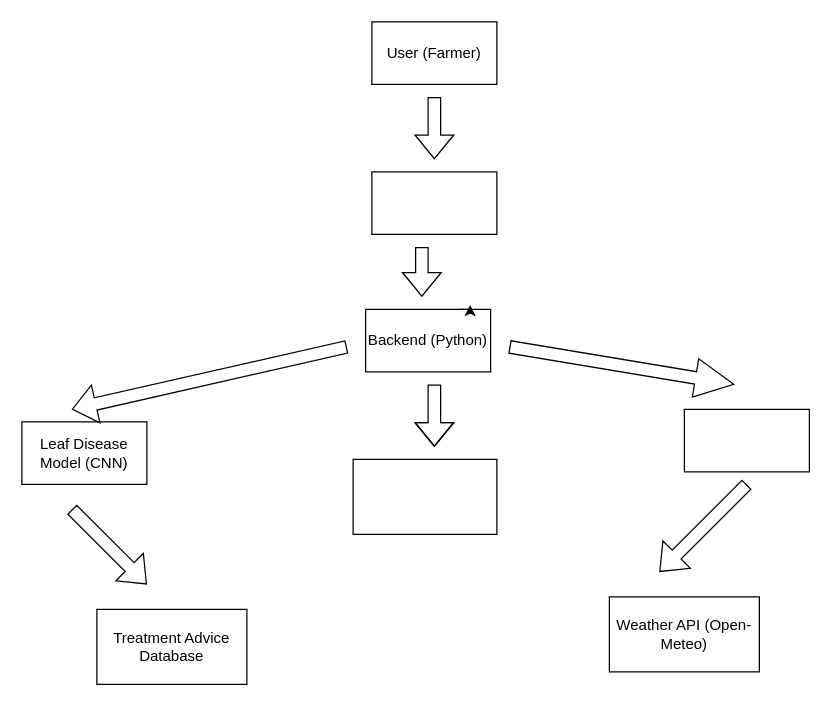
Some shapes in this 831 by 706 pixel diagram are drawn without their labels. The centre of each missing label's shape, as x and y in pixels:
"Irrigation Module" goes at point (746, 440).
"Web App (Streamlit)" goes at point (434, 202).
"Yield Prediction Model" goes at point (424, 496).
